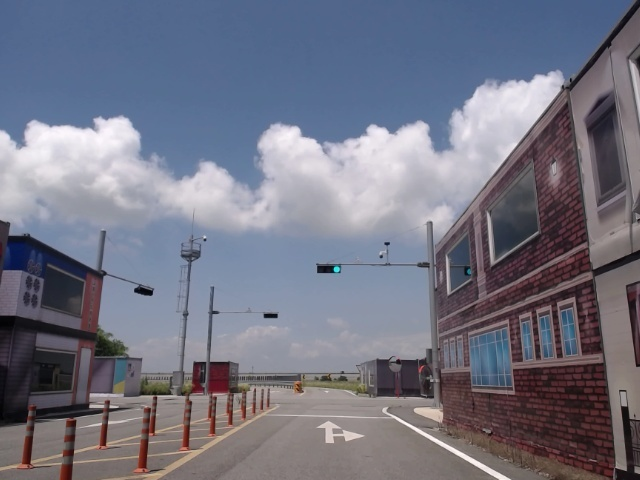green_3: (318, 266, 341, 273)
